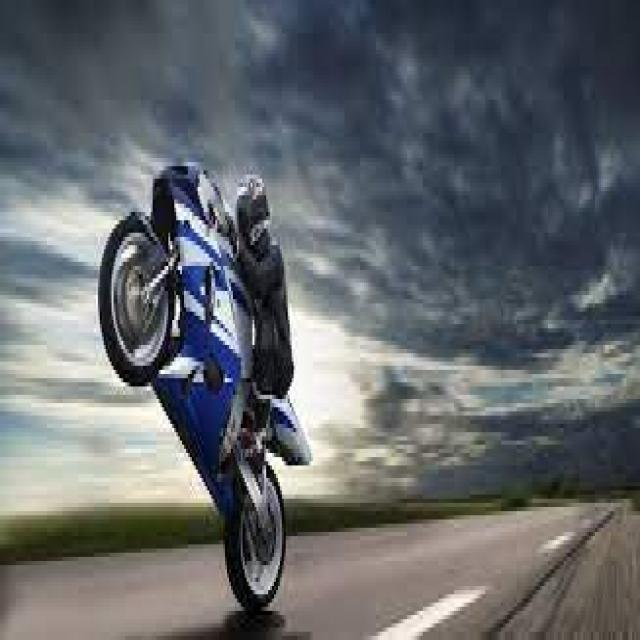Wheeling: (92, 127, 318, 599)
